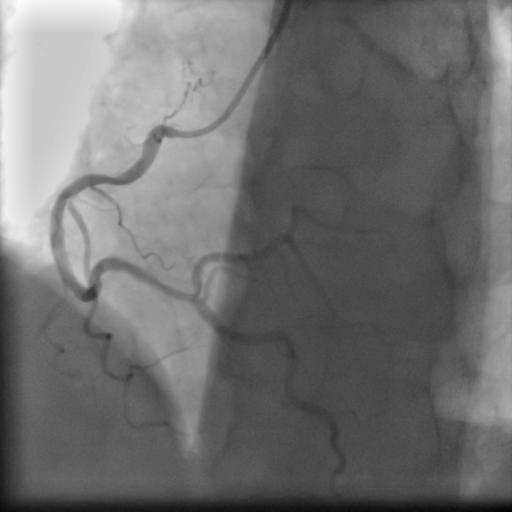Stenosis: (142, 269, 196, 310)
